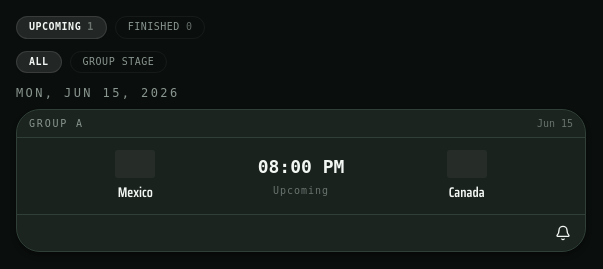
Test: FixturesView status filter › shows a friendly empty state when filter has no matches
The image size is (603, 269).
Click the button "Finished0" at {"x": 160, "y": 27}, box [115, 16, 205, 38]
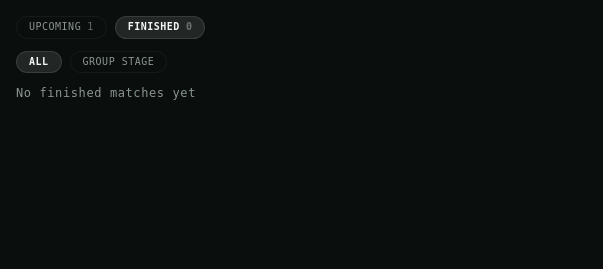
Expected: the text "No finished matches yet" is shown, [16, 86, 196, 100]
